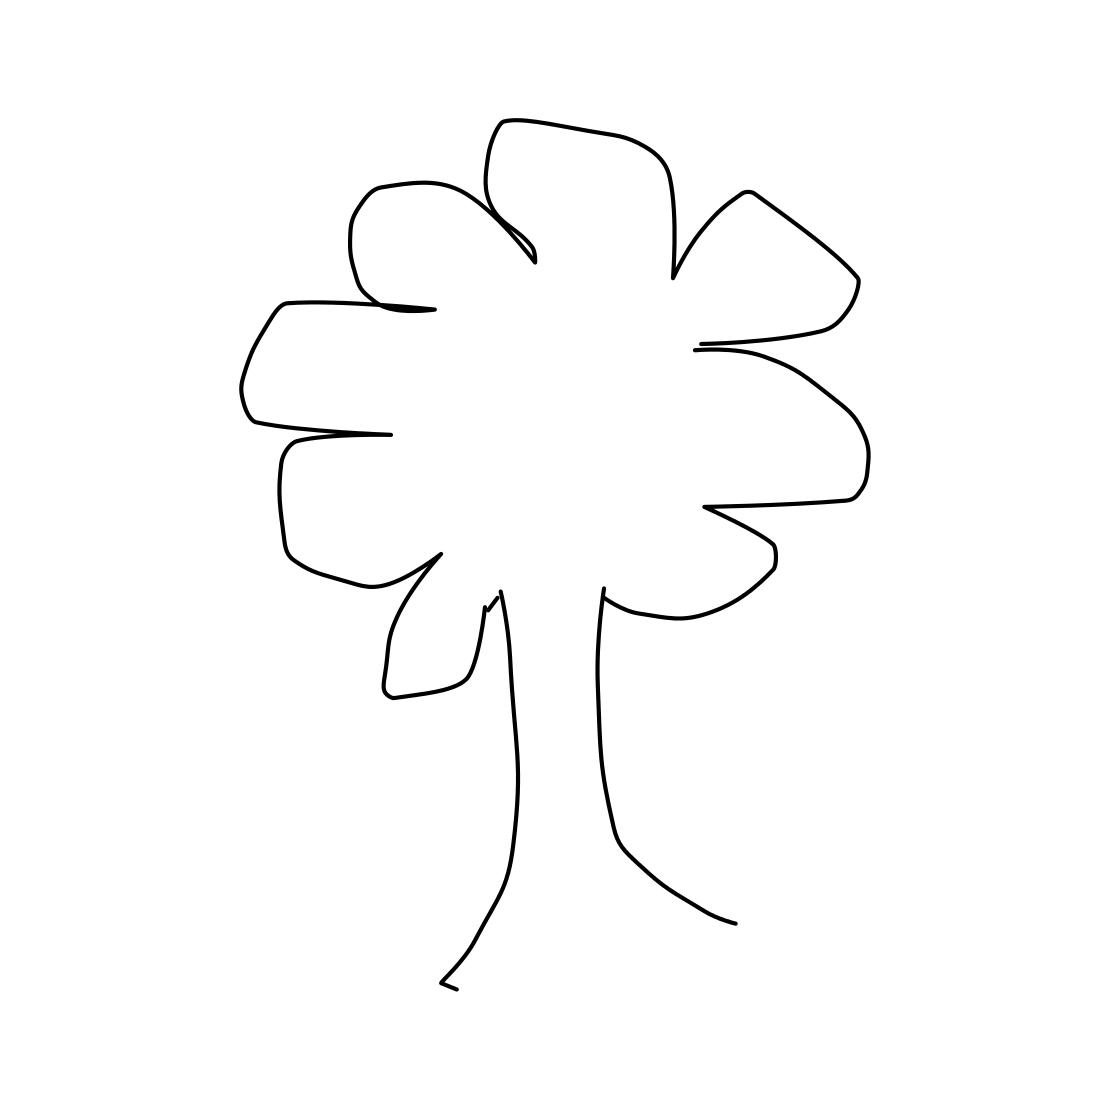Tree: (194, 65, 875, 989)
